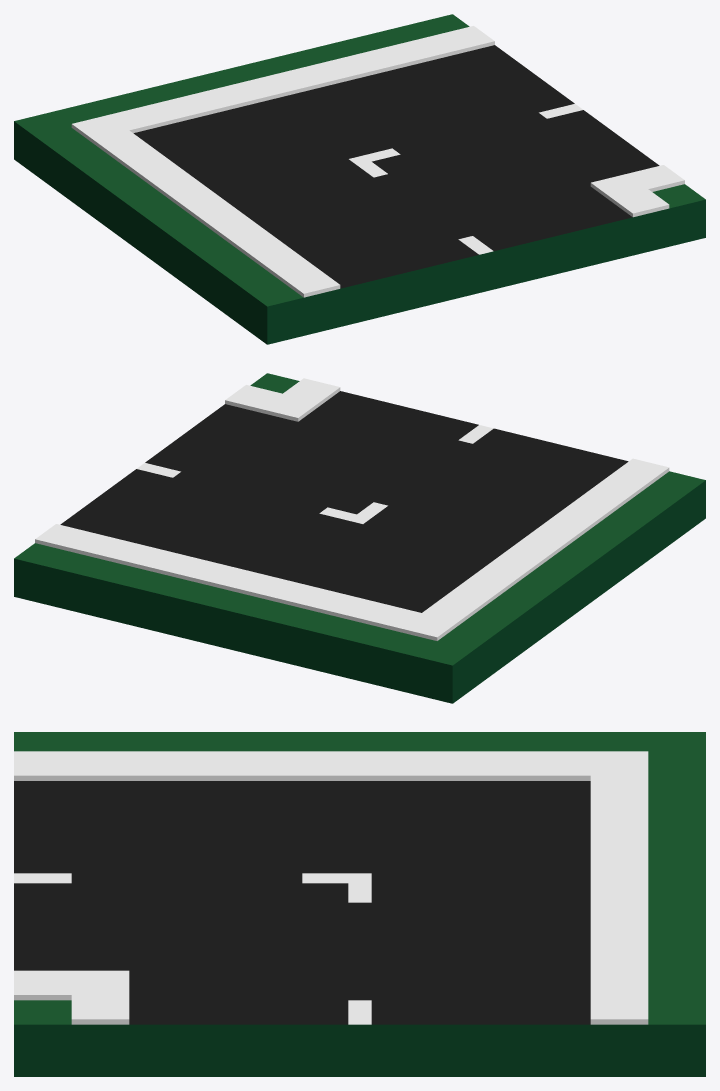
File: L intersection.obj
3 renders of one model, top to bottom at view 1: azimuth 30°, elevation 25°; view 2: azimuth 150°, elevation 25°; view 3: azimuth 270°, elevation 25°, orthographic. The views are drawn at different scales.
Visible parts, largest first — view 1: l-intersection_Cube.048; view 2: l-intersection_Cube.048; view 3: l-intersection_Cube.048.
Part boxes in pixels (x1,y1,x2,y2): l-intersection_Cube.048: (14, 14, 705, 344); l-intersection_Cube.048: (14, 373, 705, 703); l-intersection_Cube.048: (14, 732, 705, 1076).
Bounding box in the file's own units: 12 × 1.1 × 12.
1 material, 1 textured.
